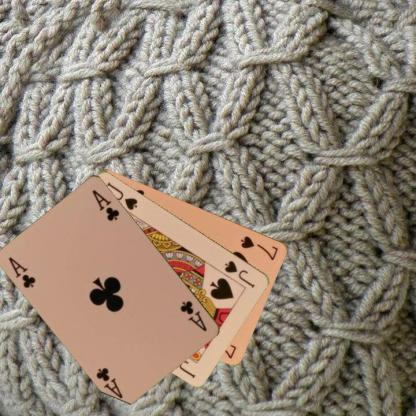7s: (238, 233, 280, 262)
Ac: (6, 254, 38, 290), (178, 298, 209, 332)
Js: (222, 258, 256, 290)
